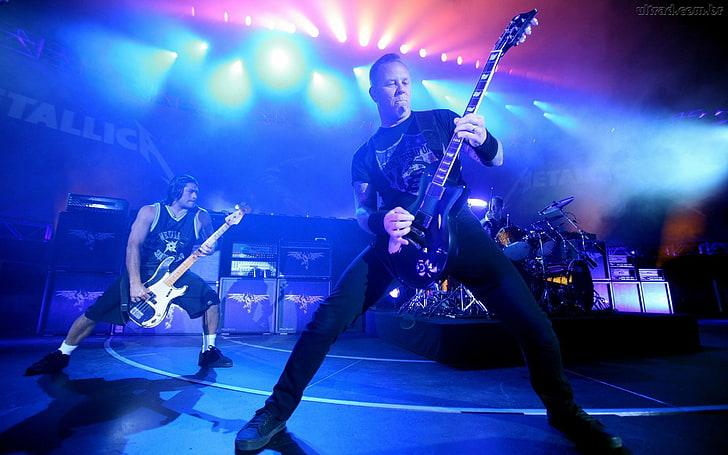acousticguitar: (379, 9, 546, 290), (122, 202, 256, 326)
